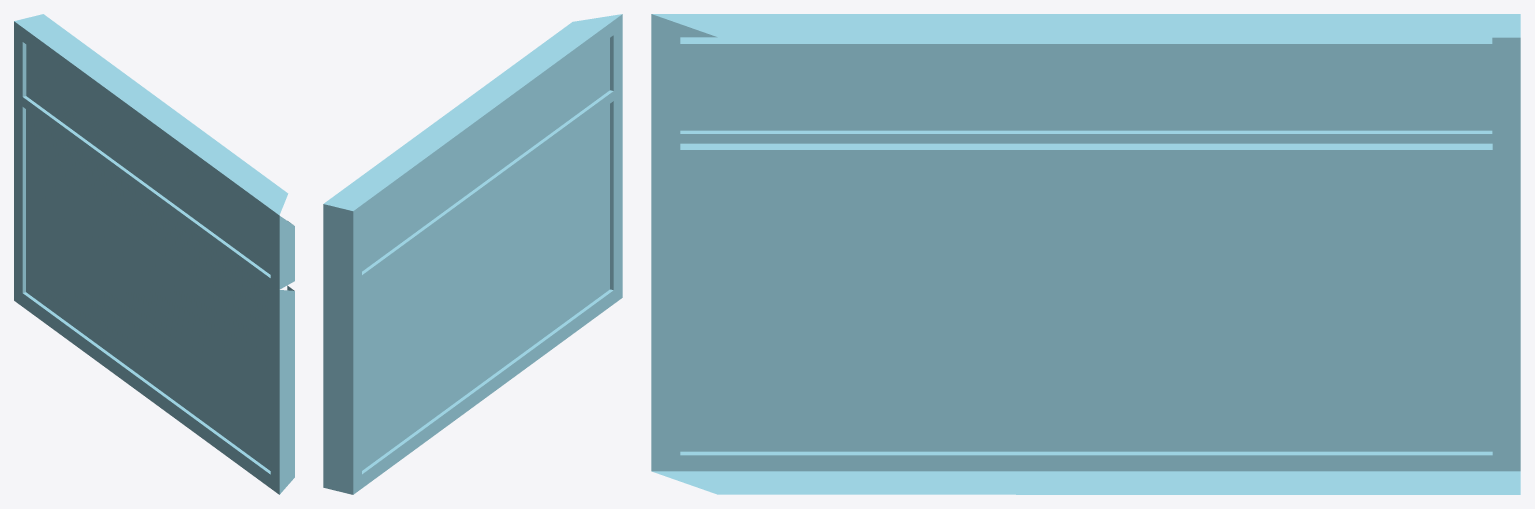
File: ventana2.fbx
The picture shows the model from 3 angles, left to right: view 1: azimuth 30°, elevation 25°; view 2: azimuth 150°, elevation 25°; view 3: azimuth 270°, elevation 25°; orthographic projection. The views are drawn at different scales.
Visible parts, largest first — view 1: WorldMarket_glass_geo; view 2: WorldMarket_glass_geo; view 3: WorldMarket_glass_geo.
Boxes of the visible parts, bbox=[...] form: WorldMarket_glass_geo: bbox=[14, 14, 294, 494]; WorldMarket_glass_geo: bbox=[323, 14, 622, 494]; WorldMarket_glass_geo: bbox=[651, 14, 1520, 494].
Size of the model in its own units: 50.69 by 460 by 791.
